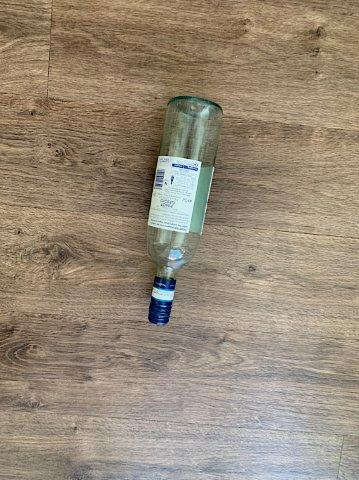botolkaca: (148, 96, 223, 326)
